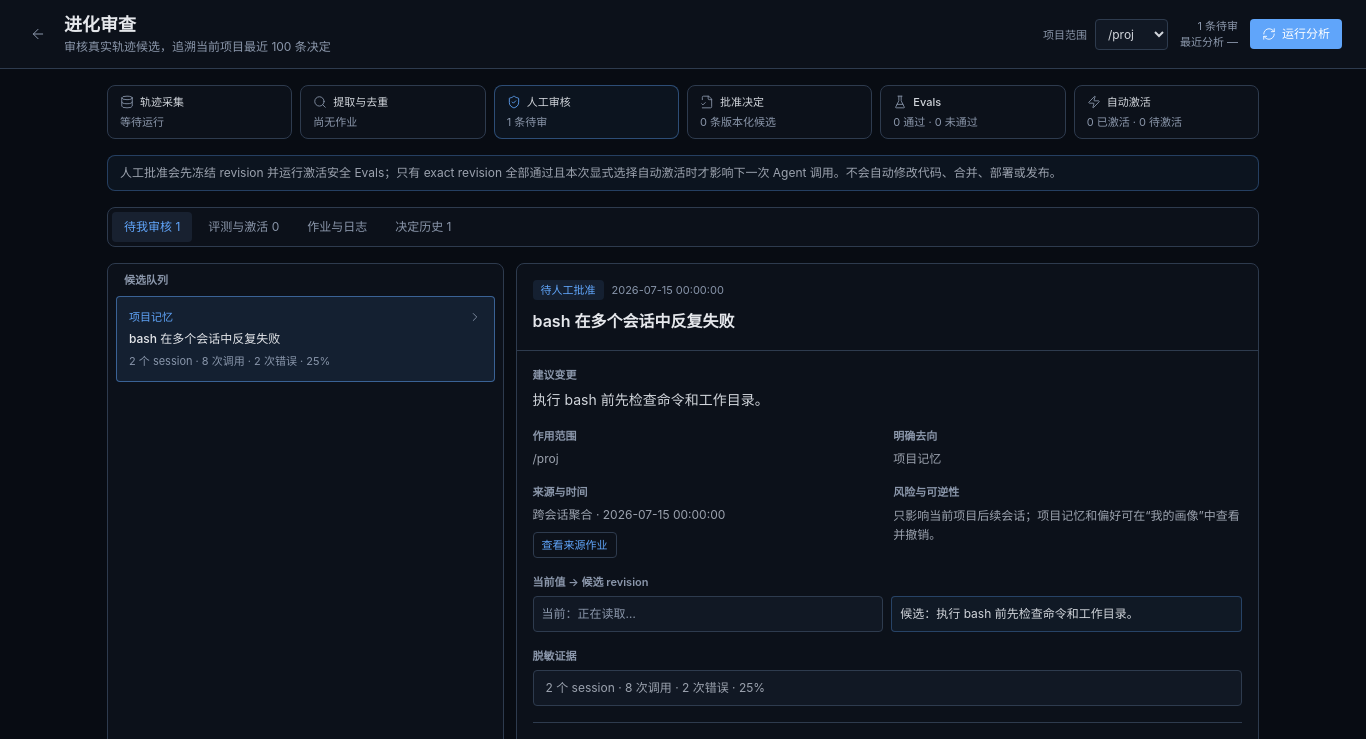
Test case: EvolutionWorkbenchPage › discards late log responses from a previously selected project
Select "/other" in the dropdown labelled "项目范围" at (1131, 34), box 1095,18 -> 1168,50
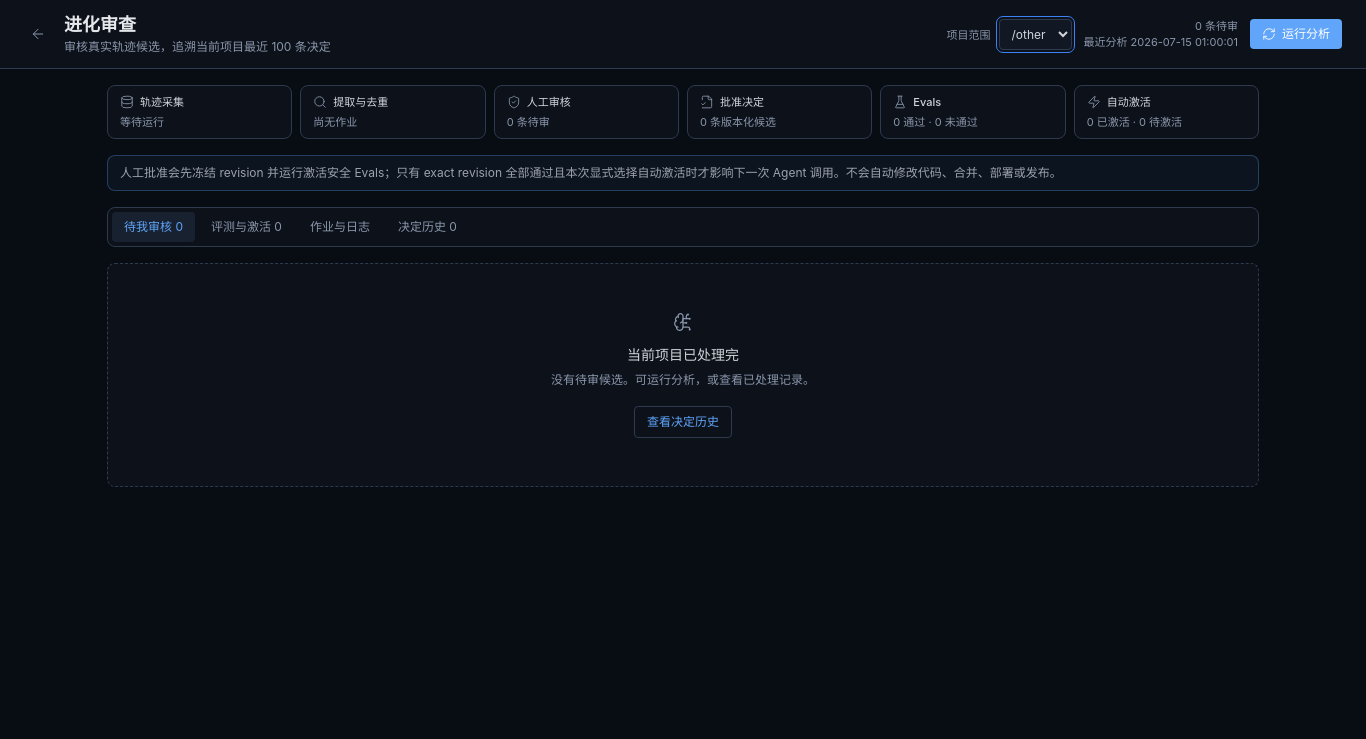
Click the tab "作业与日志" at (340, 227), box 298,212 -> 382,242
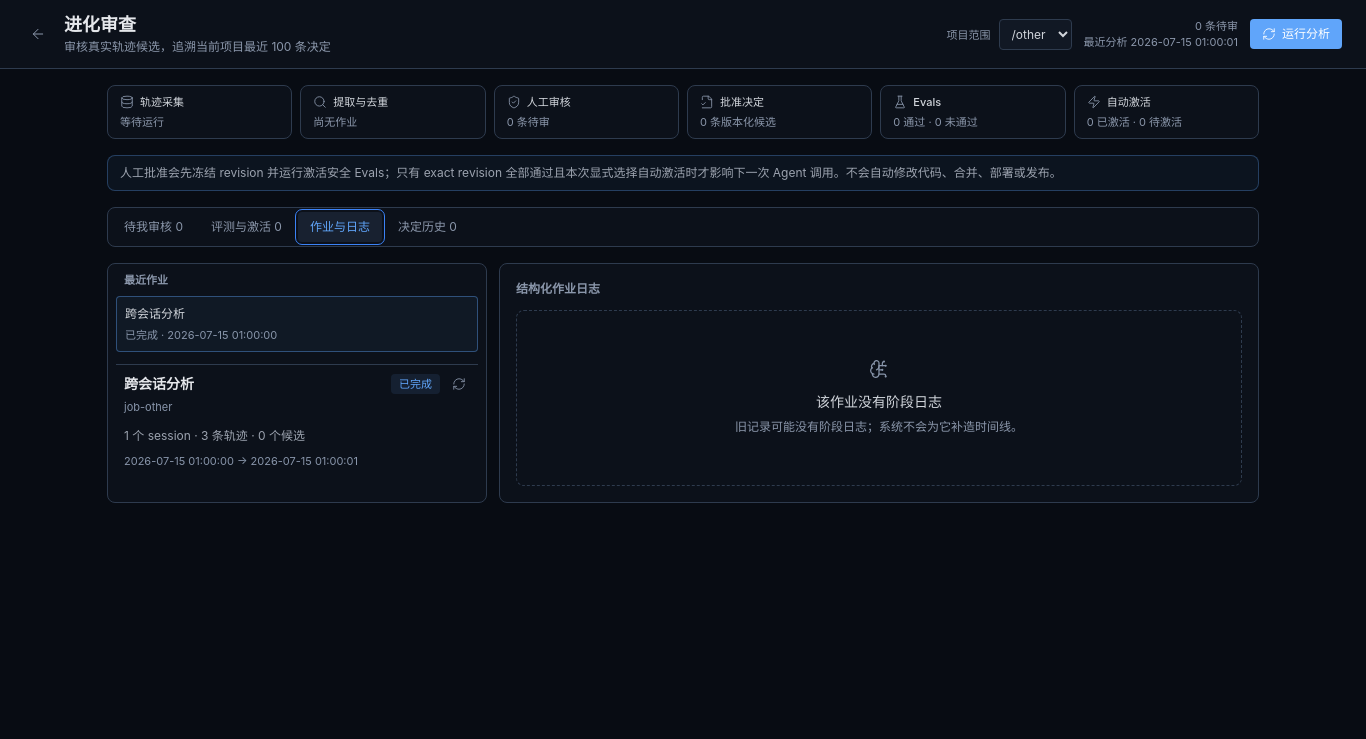
Check: the text "job-other" is shown, box 124,400 -> 172,414
